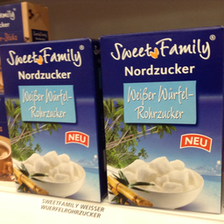sugar: (99, 25, 224, 215), (1, 37, 103, 204)
